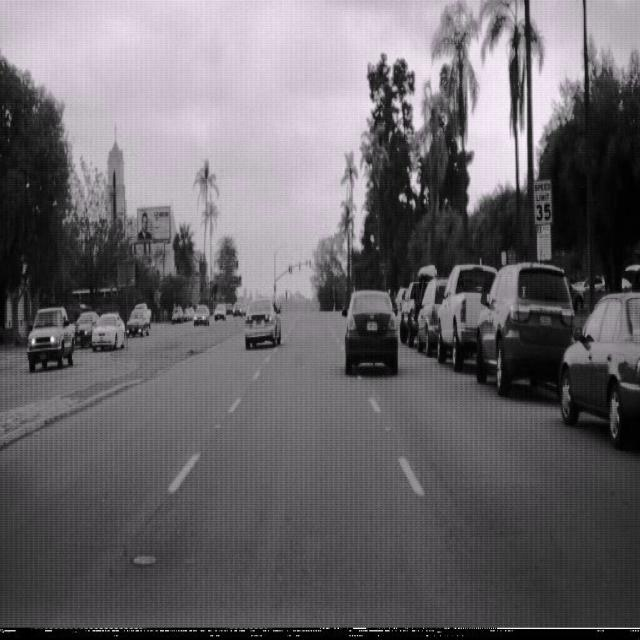speedLimit35: (533, 176, 553, 227)
